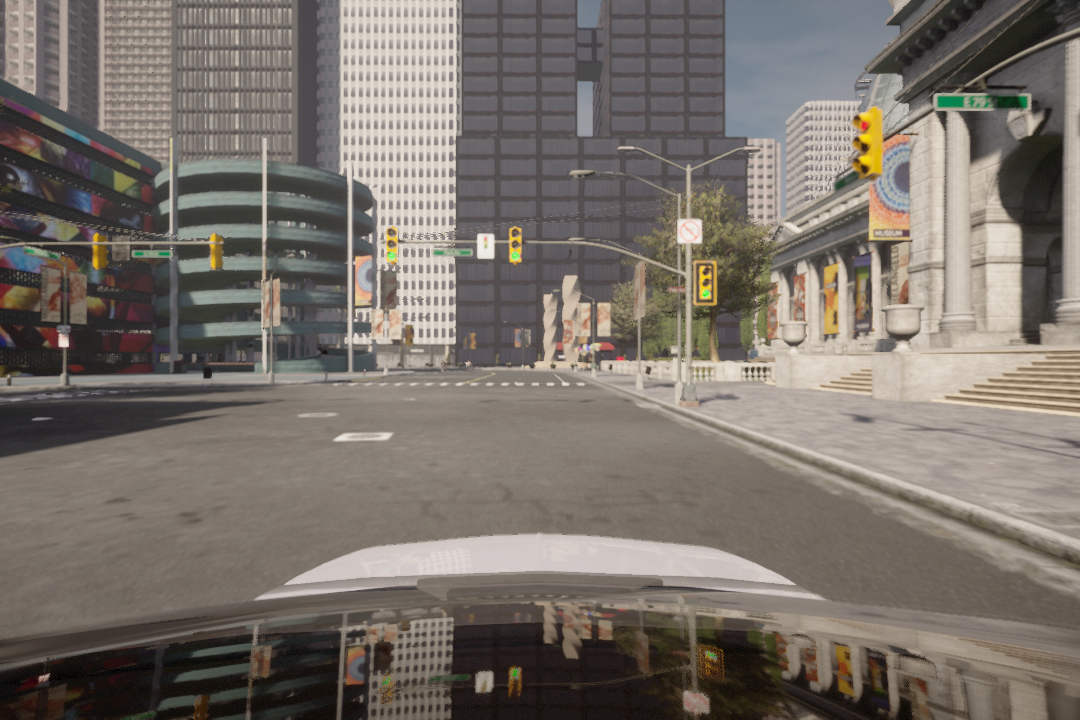TrafficLight: (853, 108, 883, 177), (694, 260, 714, 309), (384, 225, 398, 268), (508, 224, 522, 264)
TrafficSign: (679, 218, 702, 245)
